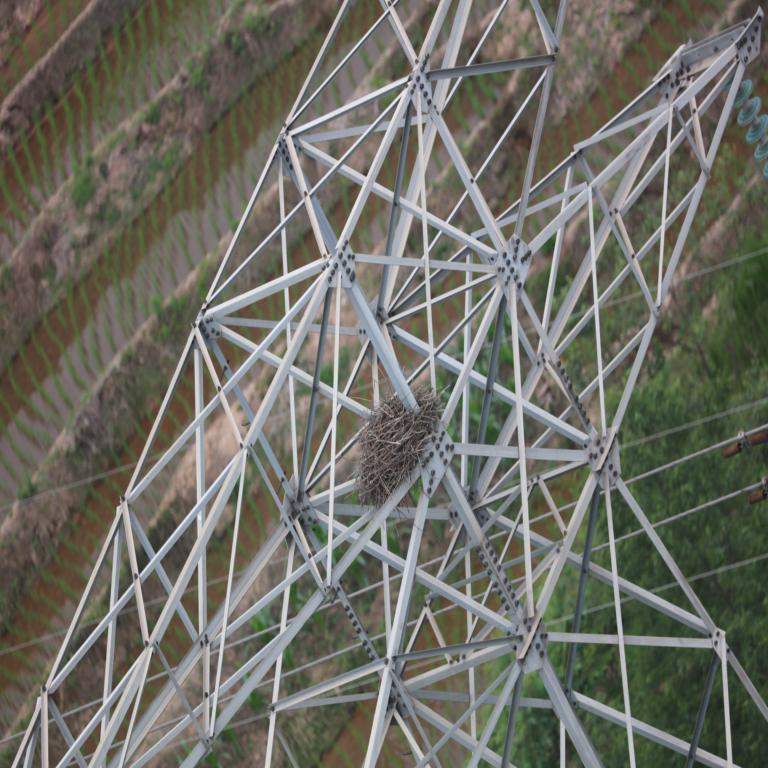nest: (360, 398, 443, 501)
